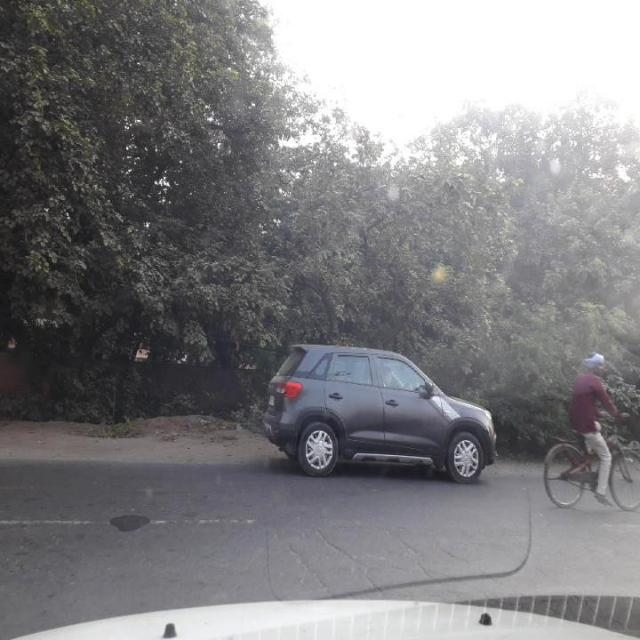crack: (256, 494, 534, 594)
